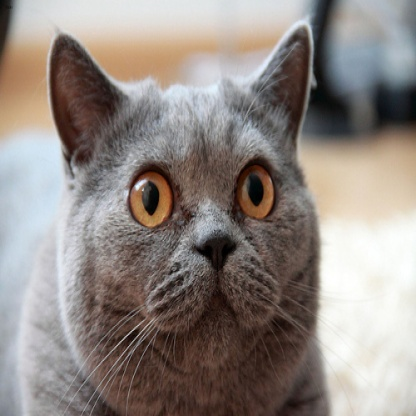british_shorthair: (11, 20, 325, 416)
